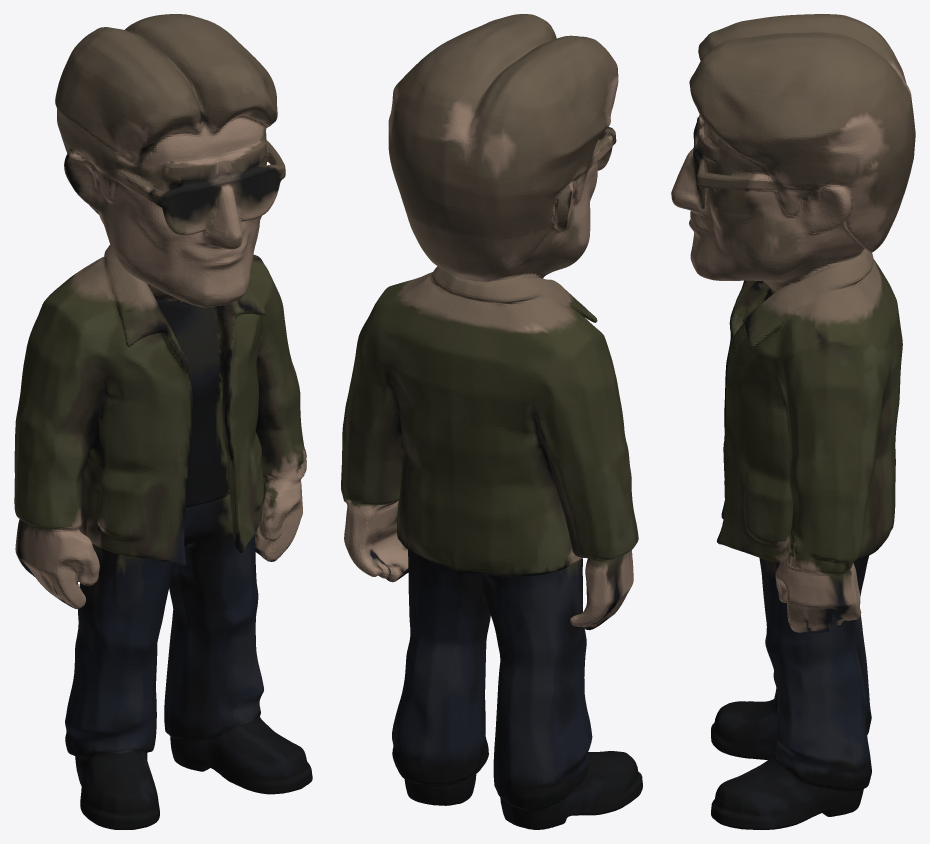
File: jacopo-ps2-color.glb
3 views of the same model, side by side, from view 1: azimuth 30°, elevation 25°; view 2: azimuth 150°, elevation 25°; view 3: azimuth 270°, elevation 25° (orthographic).
Visible parts, largest first — view 1: world; view 2: world; view 3: world.
Boxes of the visible parts, x1,y1,x2,y2 form: world: (14, 14, 312, 829); world: (341, 14, 642, 829); world: (671, 14, 915, 829).
Bounding box in the file's own units: 0.7774 × 1.99 × 0.5888.
